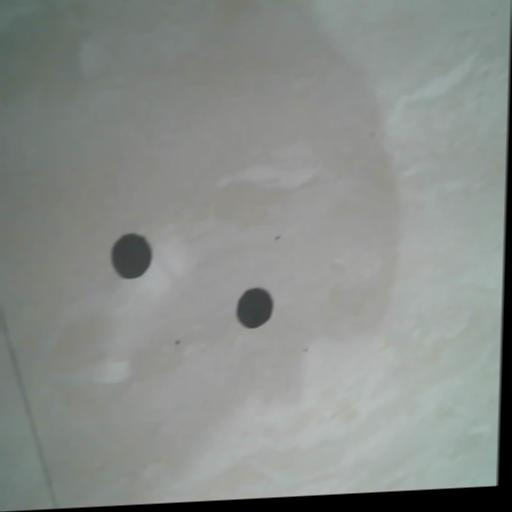pothole: (110, 232, 153, 280), (235, 286, 274, 329)
